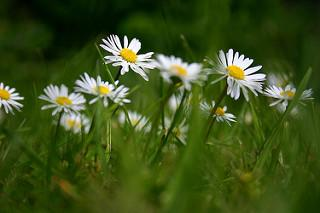daisy: (204, 49, 268, 103), (101, 34, 158, 84), (74, 72, 135, 107), (154, 55, 207, 88), (39, 85, 87, 118), (265, 84, 315, 109), (1, 82, 28, 116), (200, 102, 235, 125)
